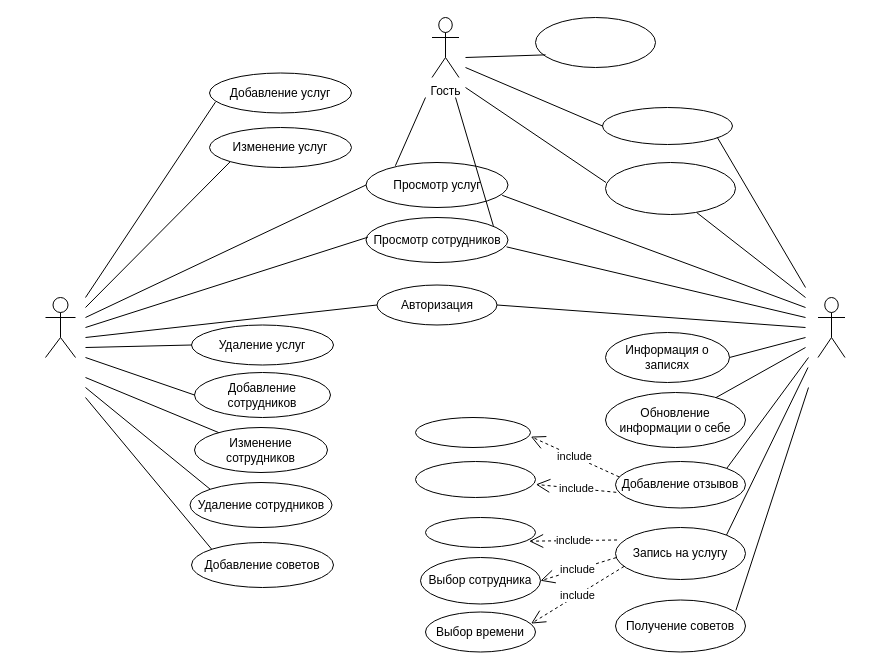
Some shapes in this 869 by 670 pixel diagram are drawn without their labels. The shapes that lost their labels are listed below. From the top down, each one's centre as x and y in pixels, then its label:
(x=595, y=42): Регистрация
(x=667, y=125): Просмотр отзывов
(x=670, y=188): Просмотр рейтинга сотрудника
(x=60, y=327): Администратор
(x=831, y=327): Клиент
(x=472, y=432): Указание рейтинга
(x=475, y=479): Указание комментария
(x=480, y=532): Выбор услуги
